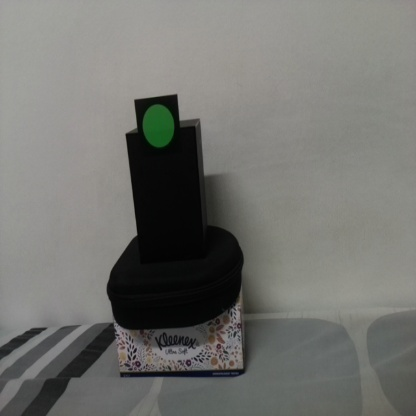id_5: (134, 99, 182, 160)
